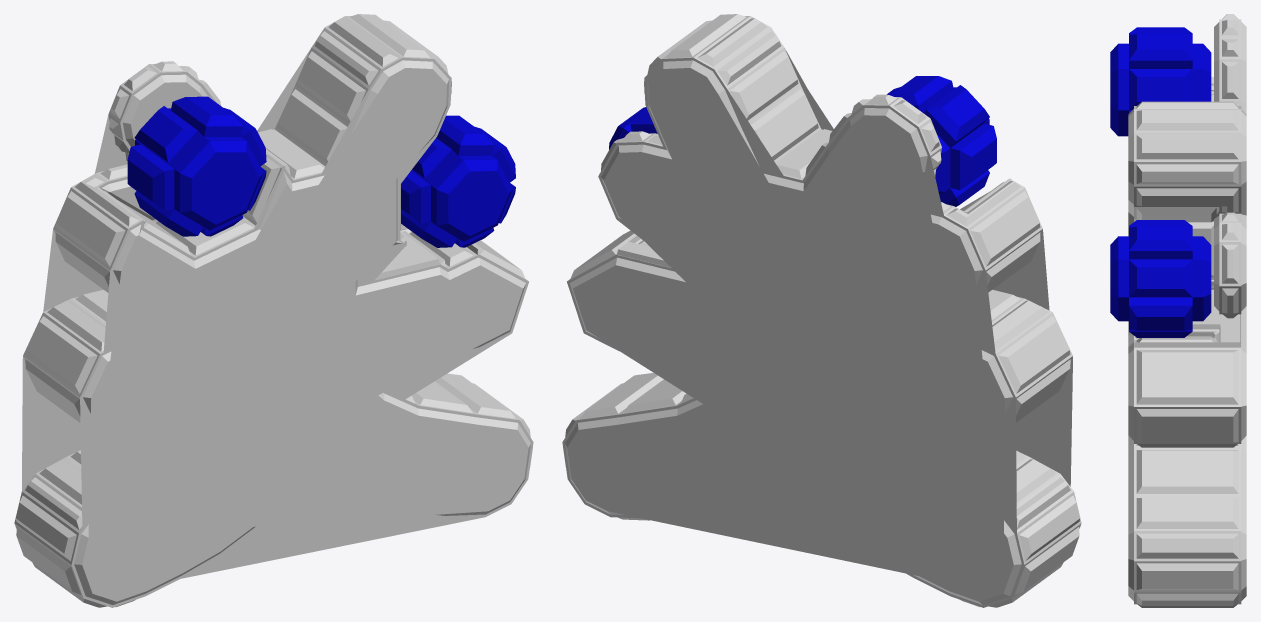
The model's file is Ch_China_关_01.fbx.
3 views of the same model, side by side, from view 1: azimuth 30°, elevation 25°; view 2: azimuth 150°, elevation 25°; view 3: azimuth 270°, elevation 25° (orthographic). The views are drawn at different scales.
Visible parts, largest first — view 1: sphere1; view 2: sphere1; view 3: sphere1.
Boxes of the visible parts, box(x1,y1,x2,y2) form: sphere1: box(14, 14, 533, 607); sphere1: box(562, 14, 1081, 607); sphere1: box(1110, 14, 1246, 607).
Bounding box in the file's own units: 0.9466 × 0.9399 × 0.2541.
